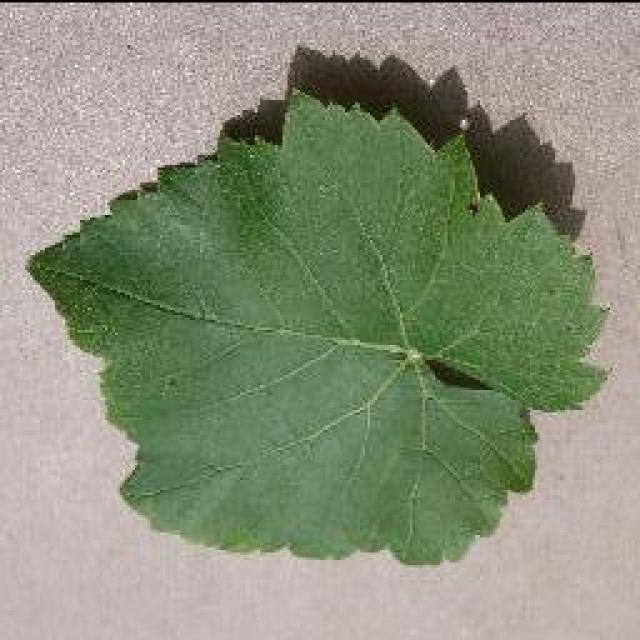Grape___healthy: (22, 84, 615, 571)
